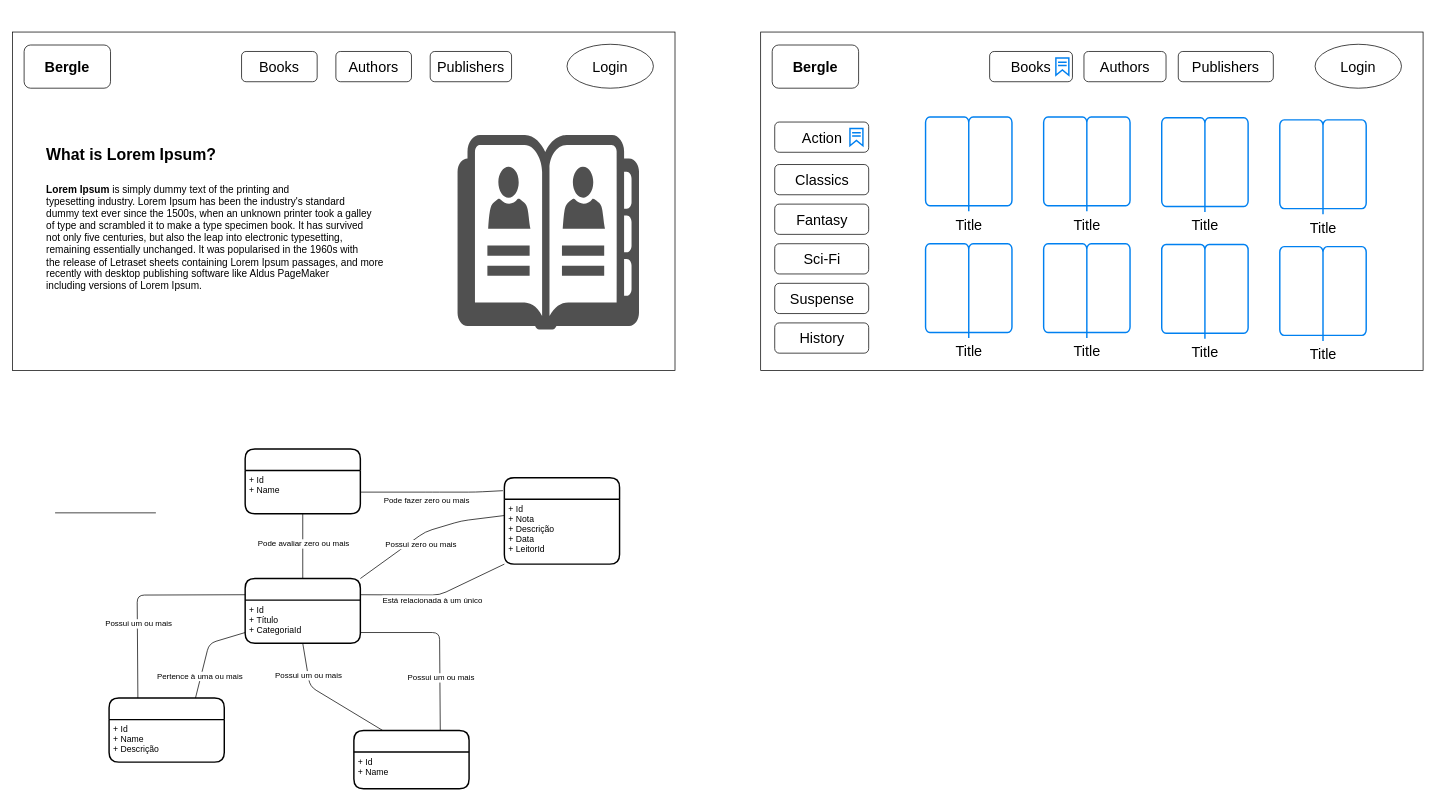
Image size: 1436x802. Some labels were removed from this diagram. Here are the shapes that lost their labels. From the top down, the box of each, then its label:
(12, 31, 675, 370): https://bergle.com
(760, 31, 1423, 370): https://bergle.com/books
(244, 448, 361, 514): Leitor
(503, 477, 620, 564): Avaliação
(244, 577, 361, 644): Livro
(108, 697, 225, 762): Categoria
(353, 729, 469, 789): Autor
